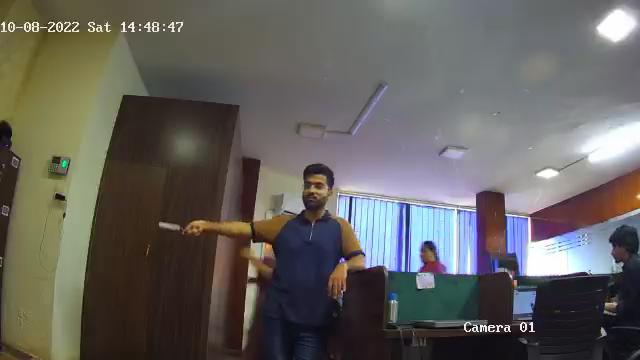knives: (159, 219, 197, 237)
